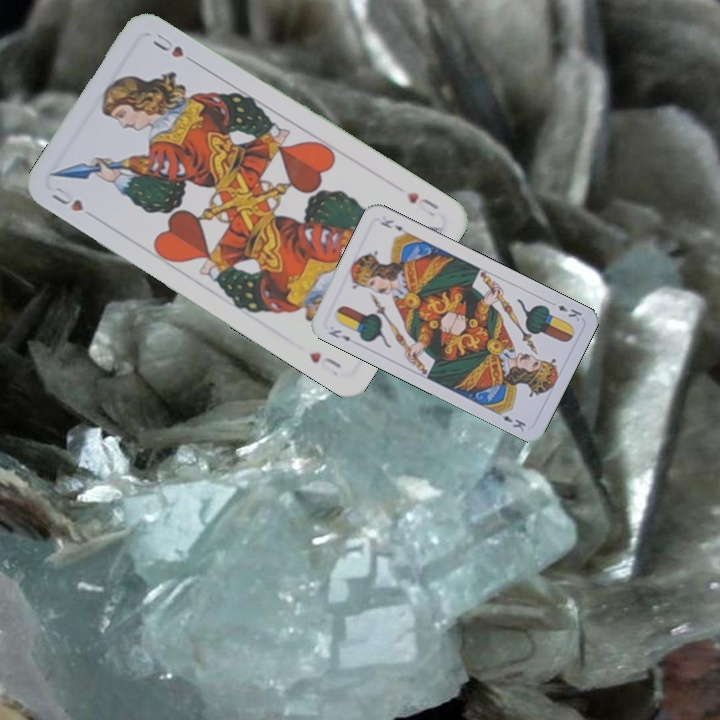EK: (553, 301, 585, 324), (324, 326, 353, 344)
HU: (47, 182, 86, 214), (402, 188, 442, 219)
